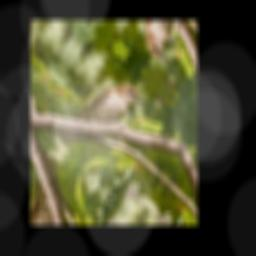Cuckoo: (56, 56, 148, 181)
